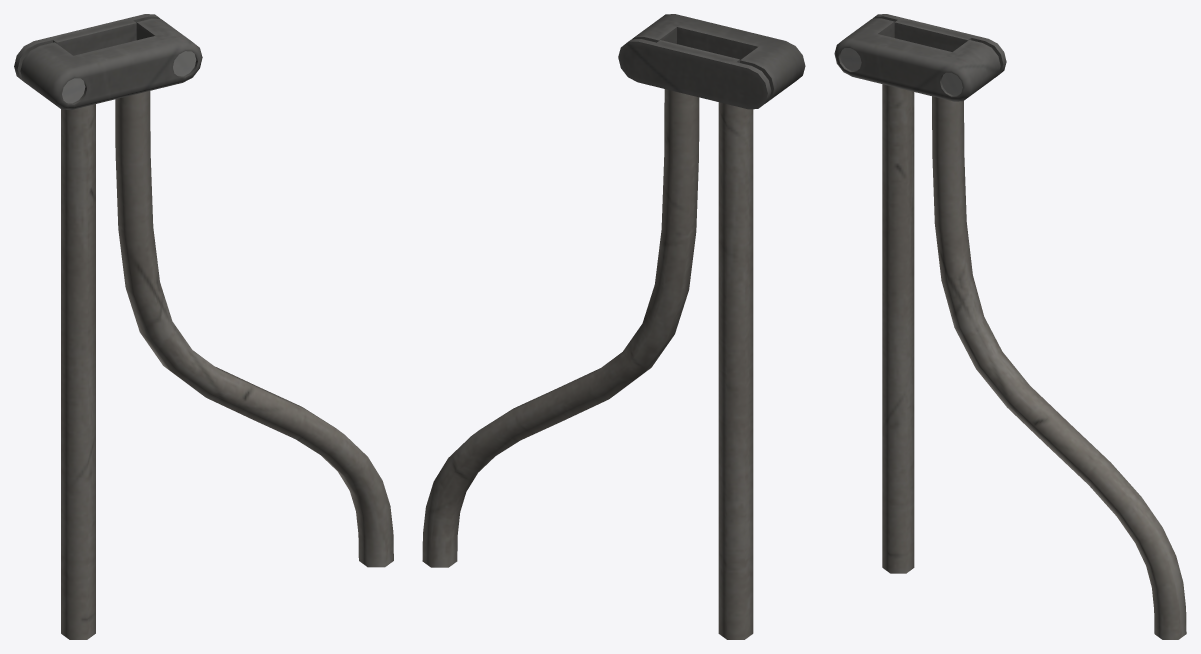
Rendered from cable_cable_to_double_3.fbx.
The picture shows the model from 3 angles, left to right: view 1: azimuth 30°, elevation 25°; view 2: azimuth 150°, elevation 25°; view 3: azimuth 330°, elevation 25°; orthographic projection. The views are drawn at different scales.
Visible parts, largest first — view 1: modular_electric_cables__cable_to_double_3; view 2: modular_electric_cables__cable_to_double_3; view 3: modular_electric_cables__cable_to_double_3.
Part boxes in pixels (x1,y1,x2,y2): modular_electric_cables__cable_to_double_3: (14,14,393,639); modular_electric_cables__cable_to_double_3: (422,14,805,639); modular_electric_cables__cable_to_double_3: (834,14,1186,639).
Bounding box in the file's own units: 0.1327 × 0.2073 × 0.0259.
